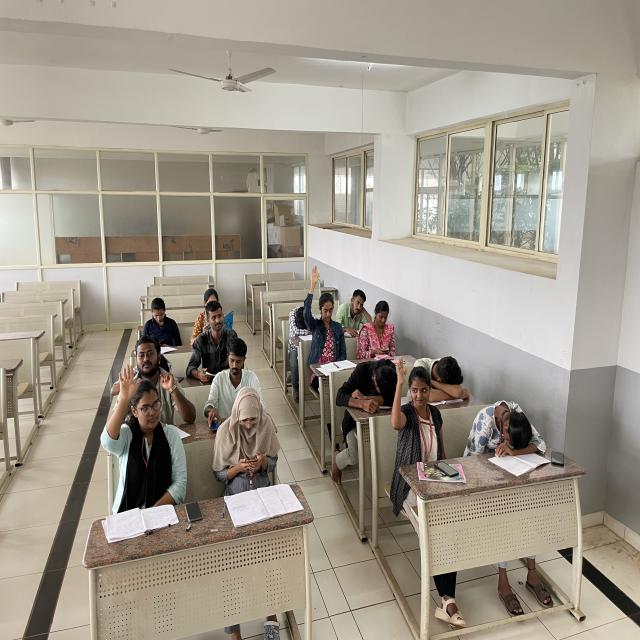Hand Rising: (103, 364, 181, 514), (389, 356, 445, 463), (304, 265, 346, 360)
Reading: (189, 301, 231, 390), (337, 286, 369, 341)
Sleeping: (462, 397, 546, 462), (336, 358, 399, 422), (412, 352, 472, 398), (284, 302, 320, 342)
Using Phone: (214, 390, 282, 488), (206, 334, 245, 436), (359, 299, 398, 359), (139, 298, 181, 349)
